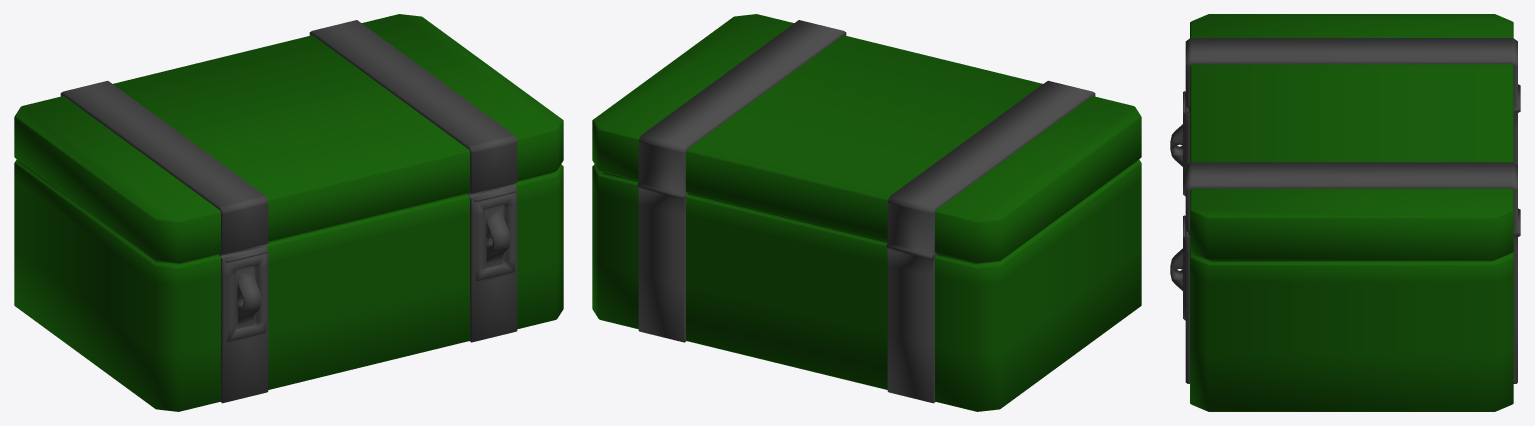
The model's file is Ammo_box_lp.FBX.
3 views of the same model, side by side, from view 1: azimuth 30°, elevation 25°; view 2: azimuth 150°, elevation 25°; view 3: azimuth 270°, elevation 25° (orthographic). The views are drawn at different scales.
Visible parts, largest first — view 1: Ammo_box_lp; view 2: Ammo_box_lp; view 3: Ammo_box_lp.
Part boxes in pixels (x1,y1,x2,y2): Ammo_box_lp: [14, 14, 563, 411]; Ammo_box_lp: [592, 14, 1141, 411]; Ammo_box_lp: [1170, 14, 1520, 411].
Size of the model in its own units: 2.24 by 1.02 by 1.62.
